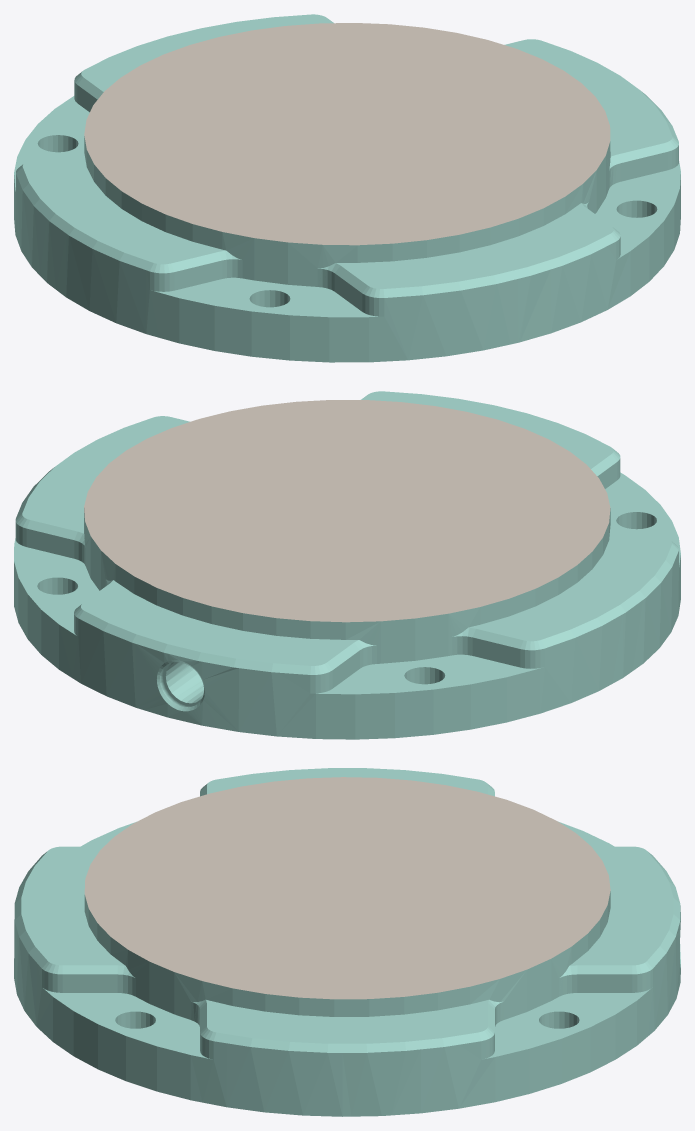
The model's file is UnitreeZ1Link0.dae.
The picture shows the model from 3 angles, top to bottom: view 1: azimuth 30°, elevation 25°; view 2: azimuth 150°, elevation 25°; view 3: azimuth 270°, elevation 25°; orthographic projection.
Visible parts, largest first — view 1: UnitreeZ1Link0; view 2: UnitreeZ1Link0; view 3: UnitreeZ1Link0.
Part boxes in pixels (<box>): UnitreeZ1Link0: <box>14,14,680,362</box>; UnitreeZ1Link0: <box>14,391,680,739</box>; UnitreeZ1Link0: <box>14,768,680,1116</box>.
Bounding box in the file's own units: 0.1469 × 0.147 × 0.0213.
